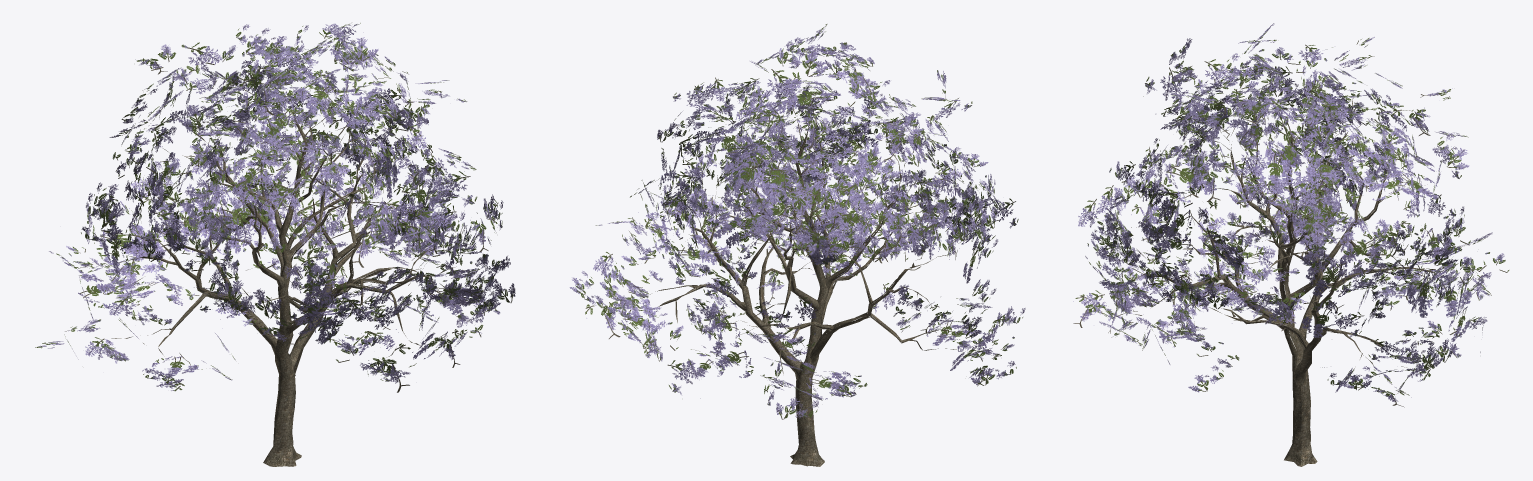
File: jacaranda_young.glb
3 renders of one model, left to right at view 1: azimuth 30°, elevation 25°; view 2: azimuth 150°, elevation 25°; view 3: azimuth 270°, elevation 25°, orthographic. The views are drawn at different scales.
Visible parts, largest first — view 1: jacaranda_young; view 2: jacaranda_young; view 3: jacaranda_young.
Part boxes in pixels (x1,y1,x2,y2): jacaranda_young: [35, 23, 515, 466]; jacaranda_young: [569, 24, 1025, 466]; jacaranda_young: [1073, 23, 1509, 466].
Bounding box in the file's own units: 5.72 × 5.29 × 5.21.
Materials: 2 (2 with a texture image).
